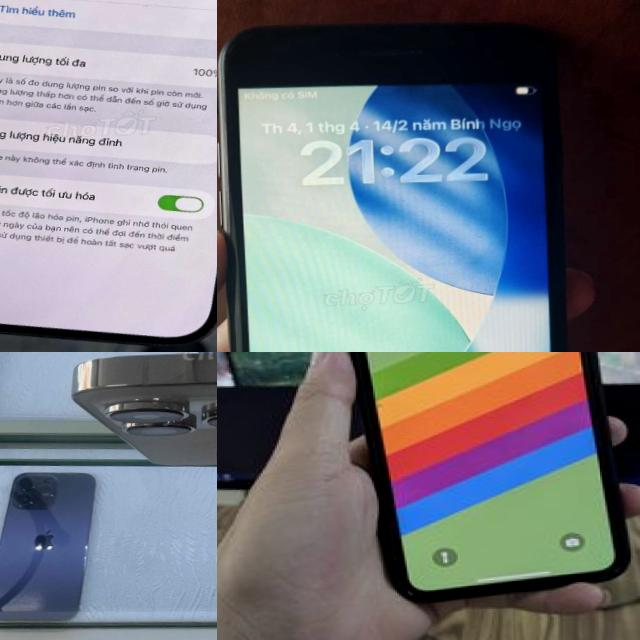scratch: (217, 0, 574, 352)
